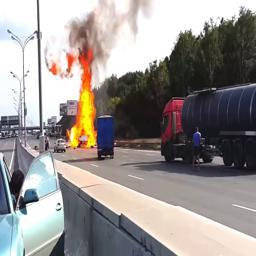fire: (45, 50, 97, 147)
